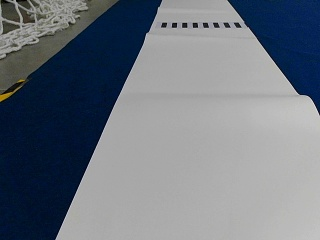crosswalk: (161, 21, 240, 28)
